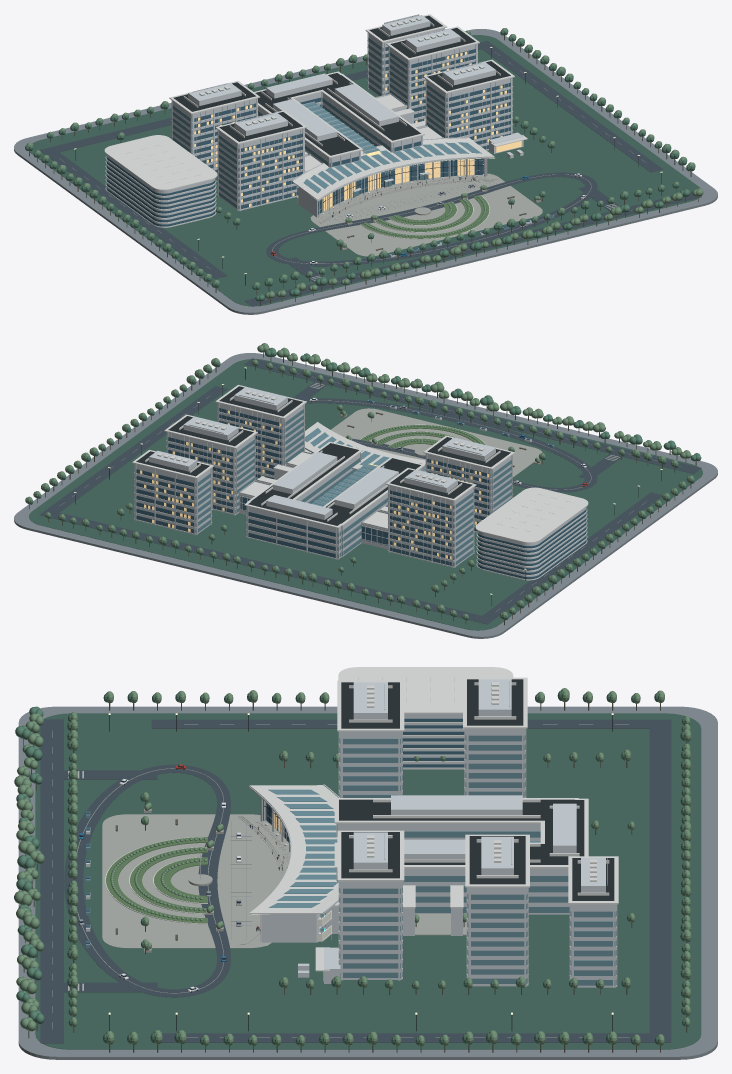
The model's file is tongji-current.glb.
3 views of the same model, one above another, from view 1: azimuth 30°, elevation 25°; view 2: azimuth 150°, elevation 25°; view 3: azimuth 270°, elevation 25° (orthographic). The views are drawn at different scales.
Visible parts, largest first — view 1: environment_grass, environment_road, environment_pavement, environment_stone, inpatient_ivory, children_ivory, parking_roof, medtech_ivory, environment_leaf, children_glass, inpatient_glass, environment_leafLight (+30 smaller); view 2: environment_grass, environment_road, environment_pavement, inpatient_ivory, children_ivory, medtech_ivory, parking_roof, environment_leafLight, inpatient_glass, children_glass, environment_stone, CurrentRefine_environment_leafLight (+27 smaller); view 3: environment_grass, environment_road, environment_pavement, environment_stone, inpatient_ivory, environment_leafLight, medtech_ivory, inpatient_glassLight, children_ivory, parking_roof, children_glassLight, CurrentRefine_environment_leafLight (+24 smaller).
Boxes of the visible parts, <box> form: environment_grass: <box>30,35,701,306</box>; environment_road: <box>39,40,701,306</box>; environment_pavement: <box>14,29,717,314</box>; environment_stone: <box>311,173,542,256</box>; inpatient_ivory: <box>367,15,512,150</box>; children_ivory: <box>171,82,304,210</box>; parking_roof: <box>104,135,217,227</box>; medtech_ivory: <box>258,73,422,167</box>; environment_leaf: <box>25,30,695,289</box>; children_glass: <box>192,103,302,209</box>; inpatient_glass: <box>383,46,510,149</box>; environment_leafLight: <box>27,28,695,289</box>; environment_grass: <box>29,359,702,630</box>; environment_road: <box>39,358,701,624</box>; environment_pavement: <box>14,353,717,638</box>; inpatient_ivory: <box>134,387,304,534</box>; children_ivory: <box>388,437,512,567</box>; medtech_ivory: <box>246,452,422,559</box>; parking_roof: <box>475,487,588,580</box>; environment_leafLight: <box>25,358,693,620</box>; inpatient_glass: <box>136,408,282,533</box>; children_glass: <box>390,458,490,565</box>; environment_stone: <box>331,408,542,477</box>; CurrentRefine_environment_leafLight: <box>257,343,691,462</box>; environment_grass: <box>35,713,701,1049</box>; environment_road: <box>40,719,671,1043</box>; environment_pavement: <box>18,706,717,1059</box>; environment_stone: <box>102,814,274,948</box>; inpatient_ivory: <box>338,832,617,987</box>; environment_leafLight: <box>70,688,691,1045</box>; medtech_ivory: <box>336,795,576,914</box>; inpatient_glassLight: <box>340,888,615,985</box>; children_ivory: <box>338,679,526,797</box>; parking_roof: <box>338,667,513,768</box>; children_glassLight: <box>340,735,524,797</box>; CurrentRefine_environment_leafLight: <box>14,713,223,1031</box>.
Size of the model in its own units: 346 by 52.5 by 294.
